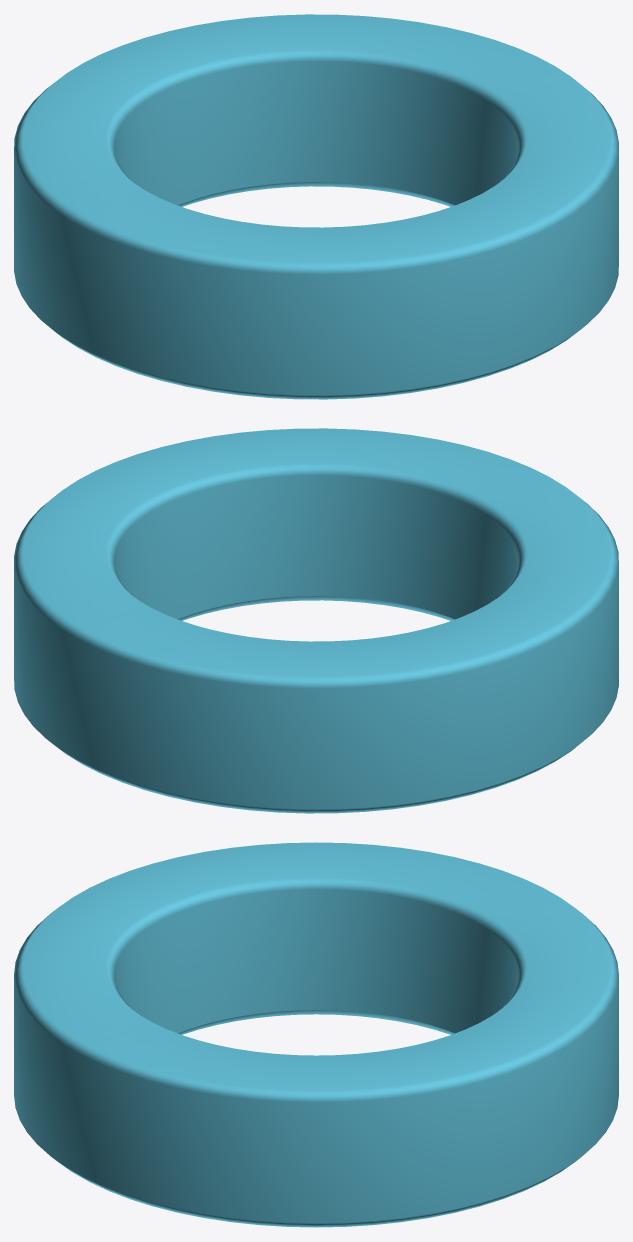
3 views of the same model, one above another, from view 1: azimuth 30°, elevation 25°; view 2: azimuth 150°, elevation 25°; view 3: azimuth 270°, elevation 25° (orthographic).
Parts seen in each view (by area): view 1: seal_body; view 2: seal_body; view 3: seal_body.
Part boxes in pixels (<box>): seal_body: <box>14,14,618,399</box>; seal_body: <box>14,428,618,813</box>; seal_body: <box>14,842,618,1227</box>.
Size of the model in its own units: 0.0381 by 0.00952 by 0.0381.
